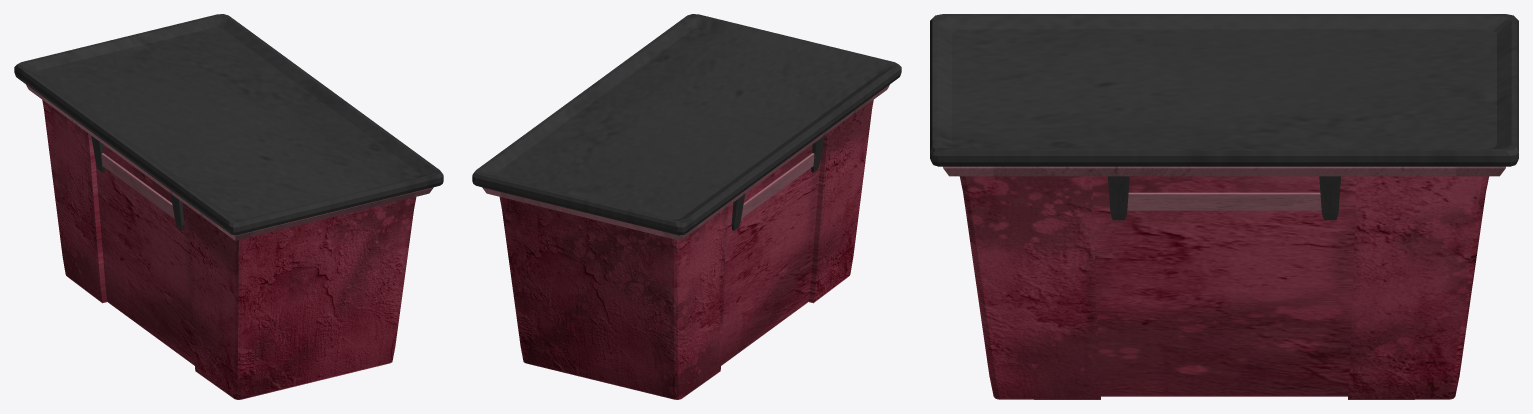
File: 보관상자.fbx
3 views of the same model, side by side, from view 1: azimuth 30°, elevation 25°; view 2: azimuth 150°, elevation 25°; view 3: azimuth 270°, elevation 25° (orthographic). The views are drawn at different scales.
Parts seen in each view (by area): view 1: Cube, Cube.002, Cube.001, Cube.004, Cube.003; view 2: Cube, Cube.002, Cube.001, Cube.004, Cube.003; view 3: Cube, Cube.002, Cube.001, Cube.004, Cube.003.
Boxes of the visible parts, <box> form: Cube: <box>42,100,416,399</box>; Cube.002: <box>14,14,443,235</box>; Cube.001: <box>26,84,433,240</box>; Cube.004: <box>101,153,174,218</box>; Cube.003: <box>91,136,184,230</box>; Cube: <box>499,100,873,399</box>; Cube.002: <box>472,14,901,235</box>; Cube.001: <box>482,84,889,240</box>; Cube.004: <box>741,153,814,218</box>; Cube.003: <box>731,136,824,230</box>; Cube: <box>959,176,1489,399</box>; Cube.002: <box>930,14,1518,166</box>; Cube.001: <box>943,166,1505,176</box>; Cube.004: <box>1127,192,1321,210</box>; Cube.003: <box>1108,176,1340,220</box>.
Size of the model in its own units: 297 by 265 by 532.
Materials: 3 (3 with a texture image).
